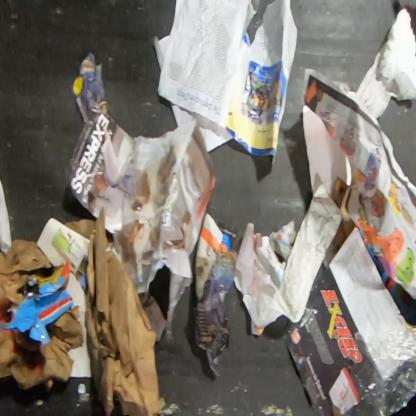cardboard: (280, 226, 404, 404), (0, 274, 75, 345), (378, 4, 416, 103)
soft_plastic: (310, 319, 415, 415)
